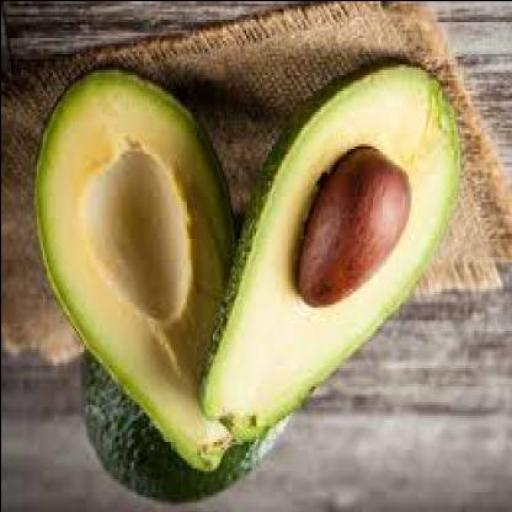biodegradable: (199, 64, 463, 446), (33, 69, 241, 475), (81, 317, 293, 506), (298, 148, 412, 309)
